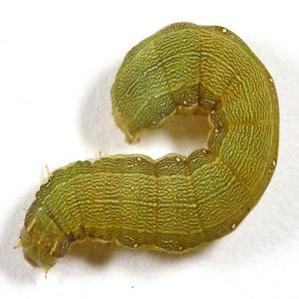Beet armyworm: (9, 9, 284, 284)
